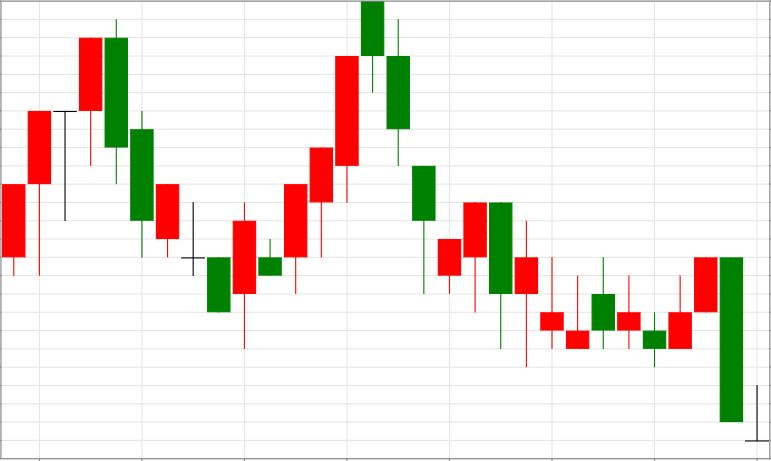bearish_engulfing_fall: (2, 18, 128, 276)
bullish_engulfing_rise: (105, 19, 256, 349)
three_black_crows_fall: (284, 1, 436, 294)
